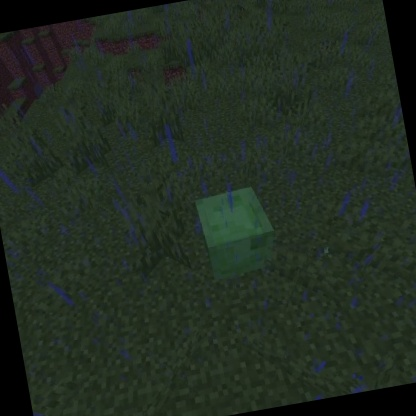slime: (189, 179, 286, 287)
